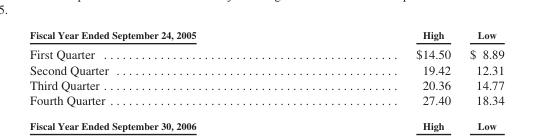table: (28, 28, 503, 106)
table column: (28, 28, 305, 106), (305, 28, 459, 106), (459, 28, 503, 106)
table column header: (28, 28, 503, 43)
table row: (28, 43, 503, 61), (28, 76, 503, 92), (28, 28, 503, 43), (28, 61, 503, 76), (28, 92, 503, 106)
